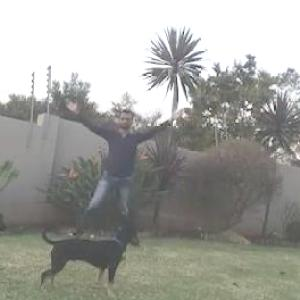takeoff: (65, 96, 189, 238)
